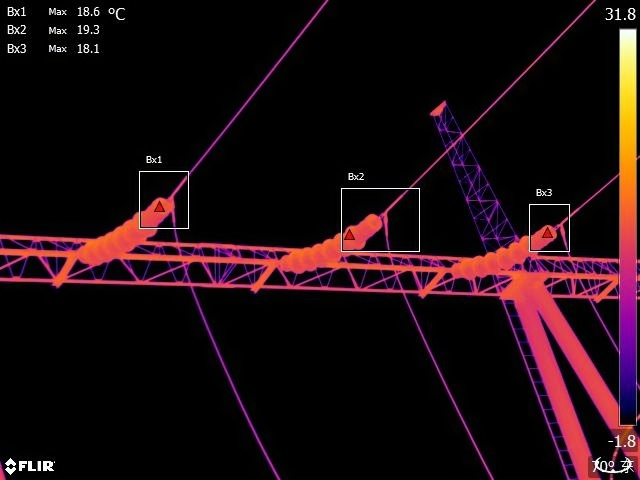clamp: (159, 189, 182, 222), (376, 206, 398, 234), (555, 216, 569, 241)
insulator: (277, 206, 389, 277), (75, 192, 172, 263), (450, 220, 558, 282)
